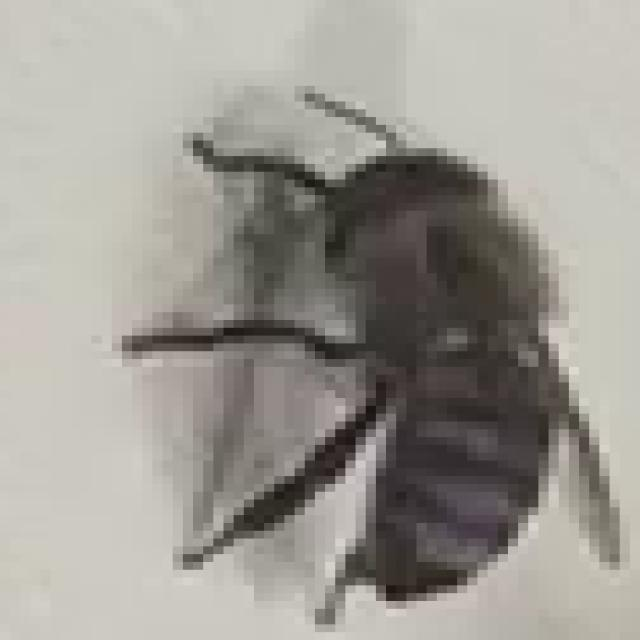honeybee: (160, 112, 600, 602)
